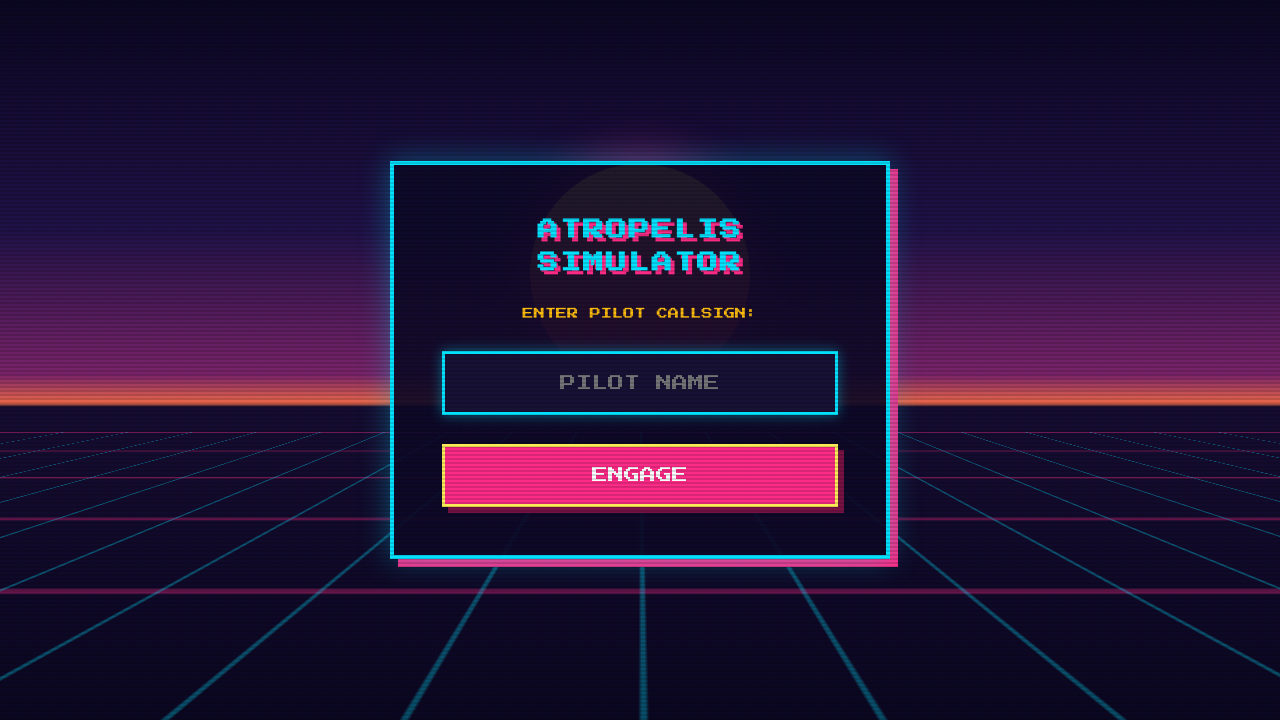
Test: App & GameCanvas Integration › navigates across all views, steps the 3D game loop, handles pointer steering, and saves scores on timer end
Later steps or results of the test are not shown.
Check: the text "ENTER PILOT CALLSIGN:" is shown, box [522,308,758,319]
Type "RUNNER3000" into the field with placeholder "PILOT NAME" at (640, 383), box [442,351,838,415]
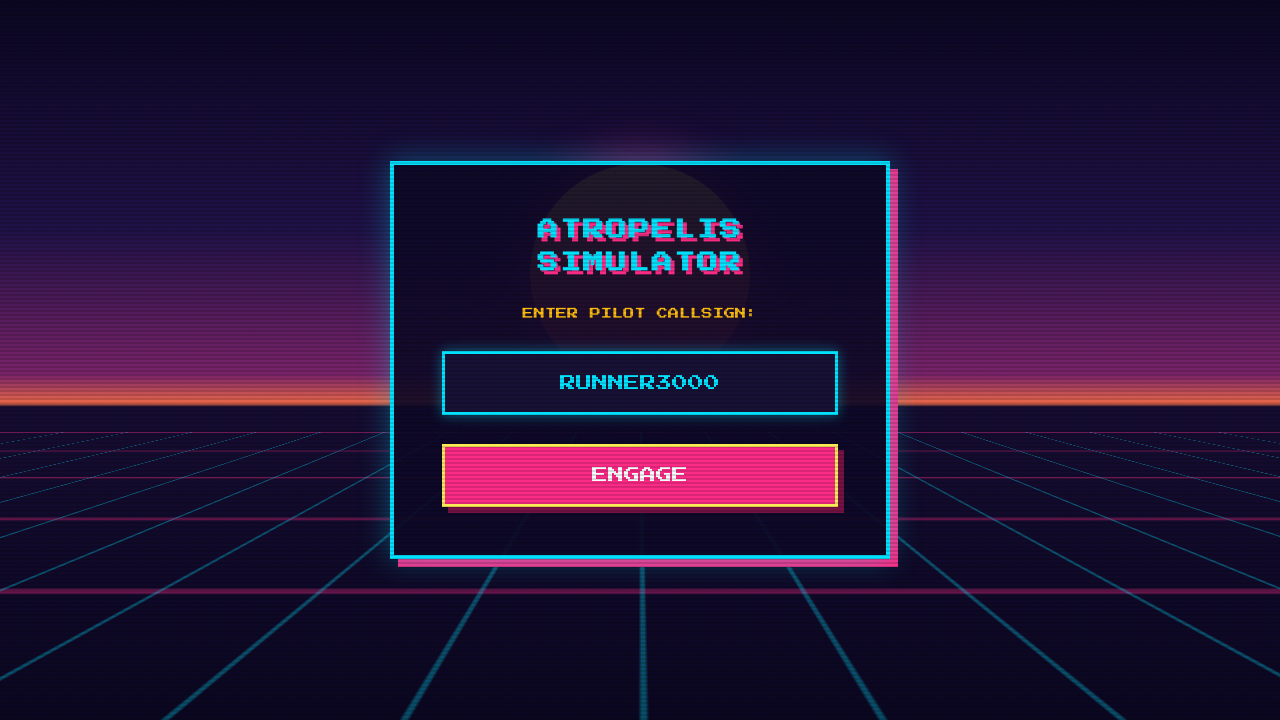
Click the button "ENGAGE" at (640, 475), box [442,444,838,507]
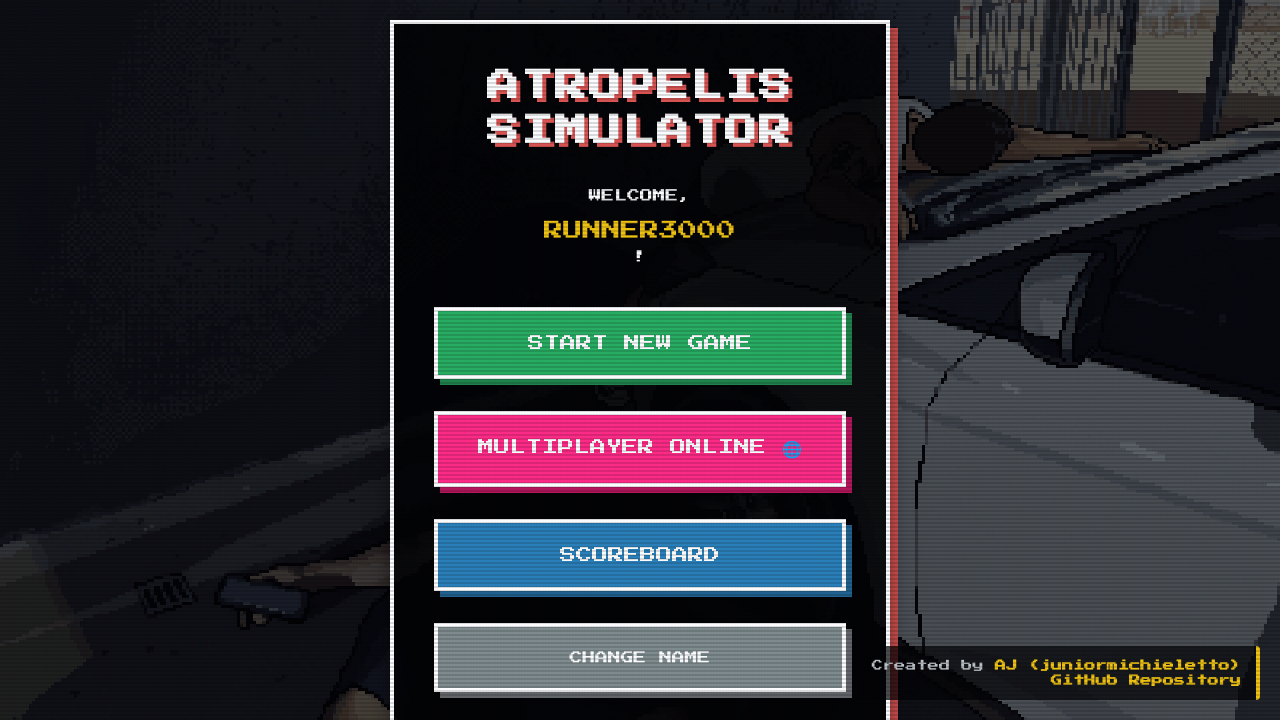
Check: the text "RUNNER3000" is shown, box [544,221,736,240]
Click the button "CHANGE NAME" at (640, 658), box [434,623,846,692]
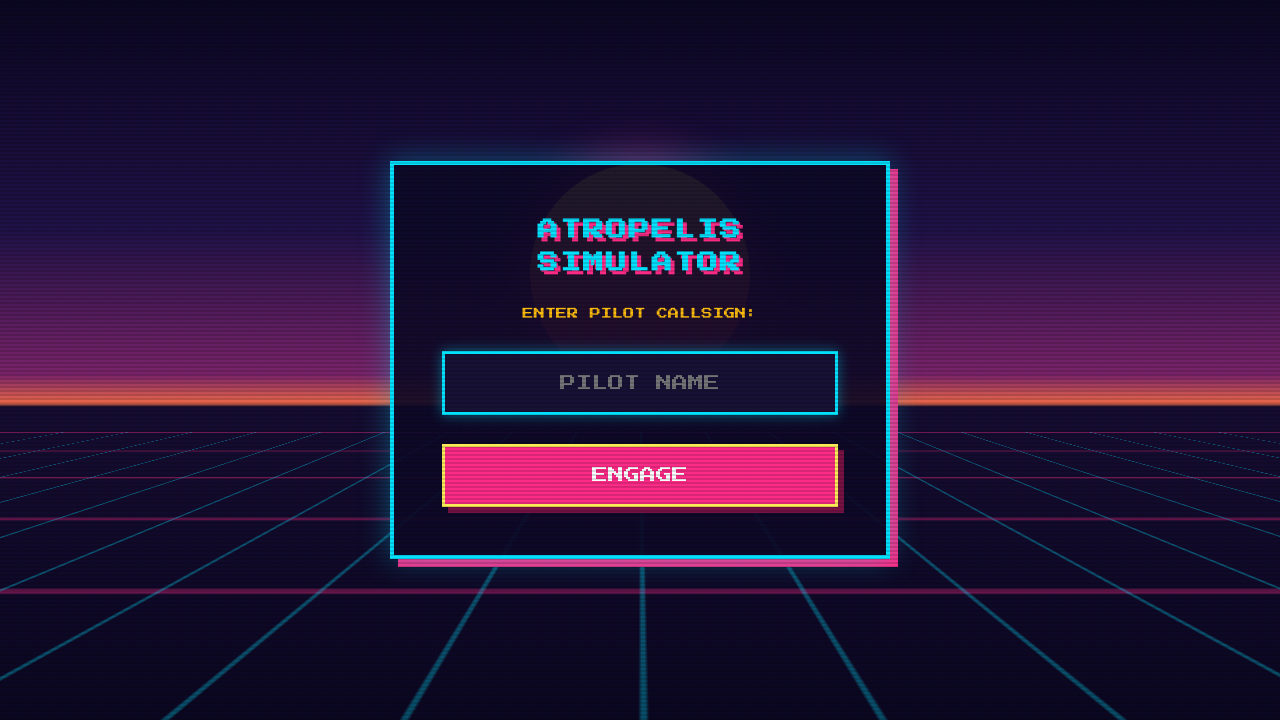
Check: the text "ENTER PILOT CALLSIGN:" is shown, box [522,308,758,319]
Type "ACE3000" into the field with placeholder "PILOT NAME" at (640, 383), box [442,351,838,415]
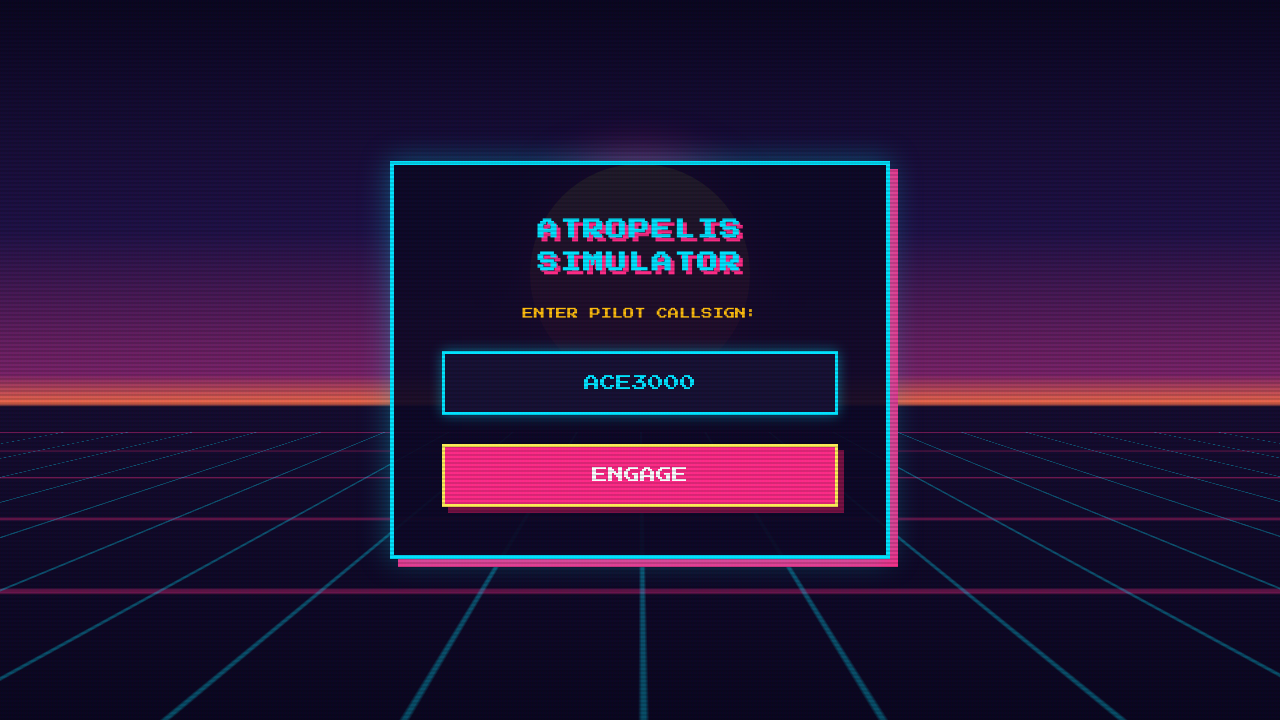
Click the button "ENGAGE" at (640, 475), box [442,444,838,507]
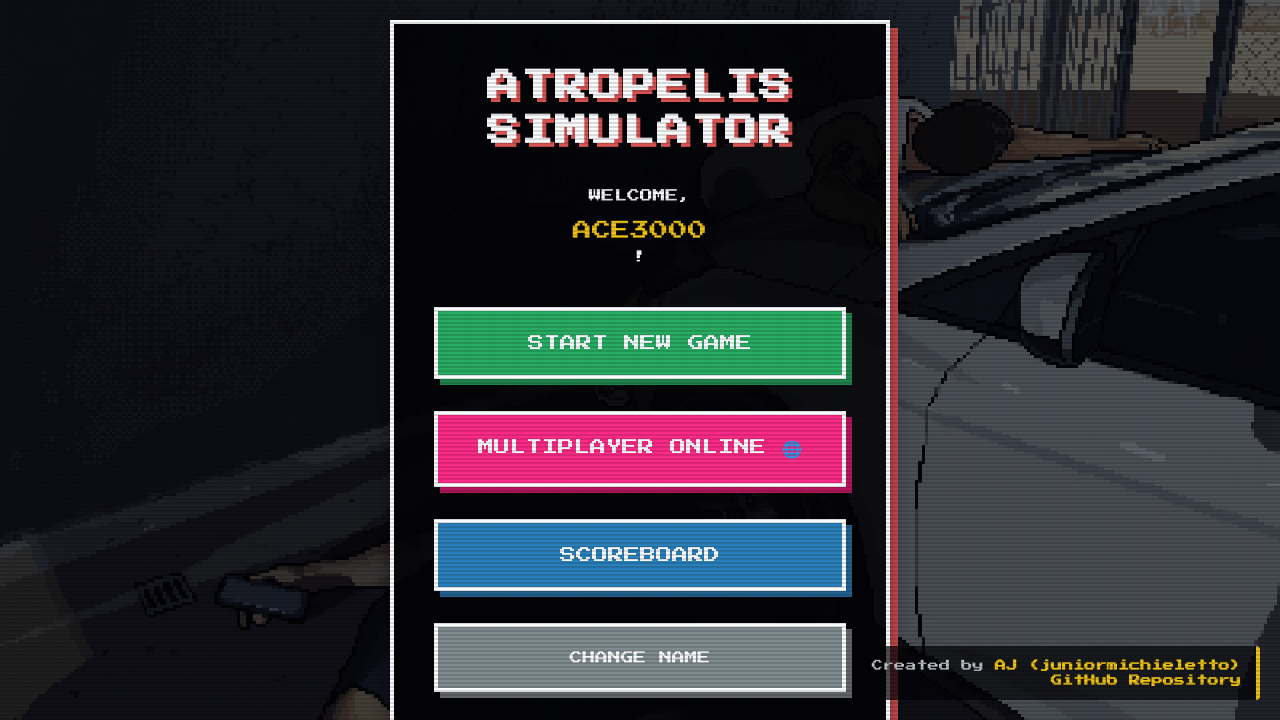
Check: the text "ACE3000" is shown, box [573,221,707,240]
